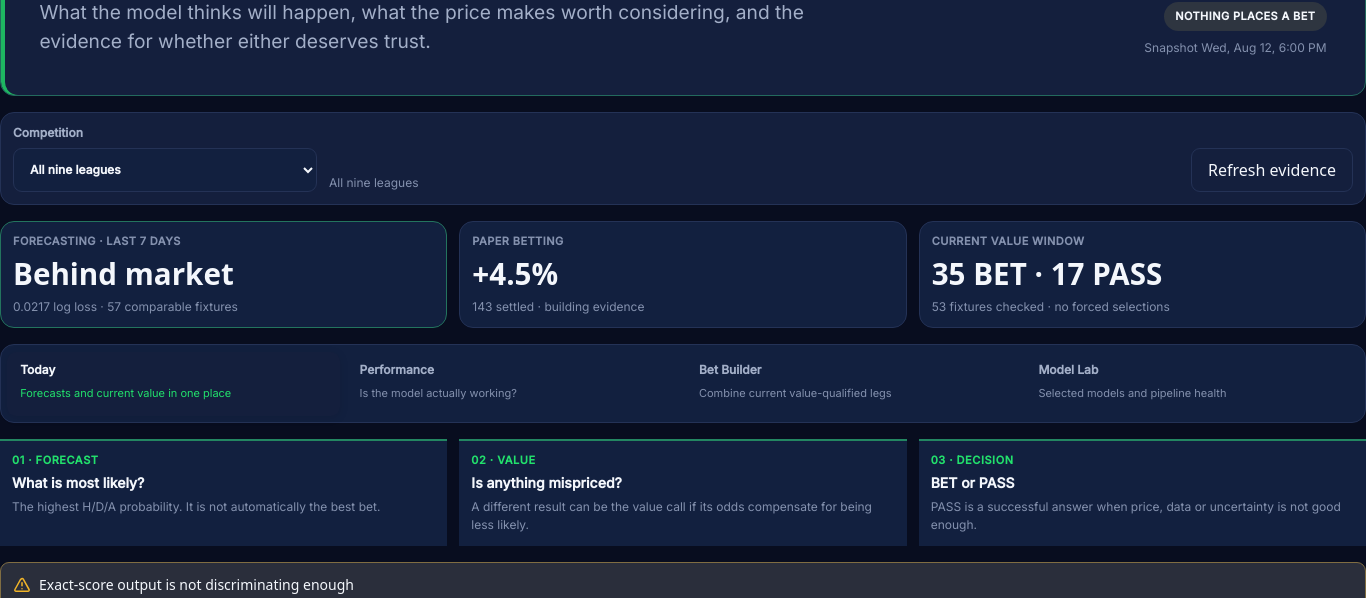
Test: AI Lab comparable market evidence › says the model is behind the closing comparator and shows both numbers
Click the button "Performance Is the model actually working?". click: x=513, y=384
box: [347, 352, 680, 416]
(page scrolled)
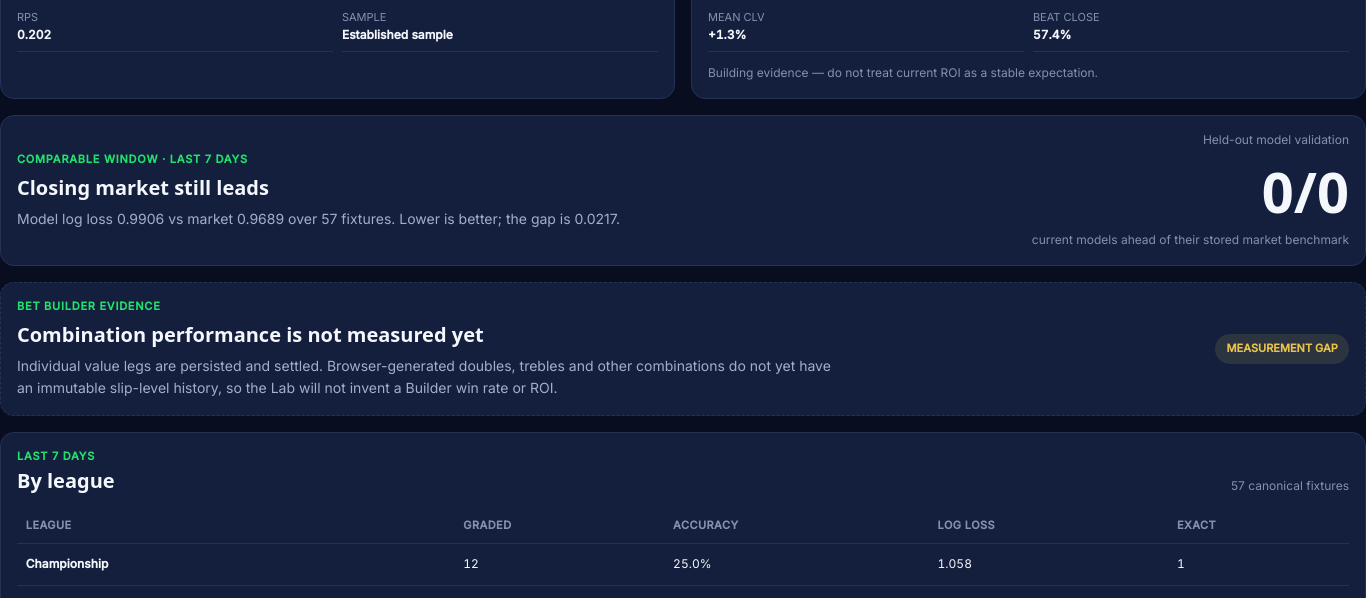
Now the heading "Closing market still leads" is shown, box [17, 174, 269, 201]
Now the text "Model log loss 0.9906 vs market 0.9689" shows "57 fixtures", box [17, 208, 620, 230]
Now the text "Model log loss 0.9906 vs market 0.9689" shows "0.0217", box [575, 210, 616, 227]
